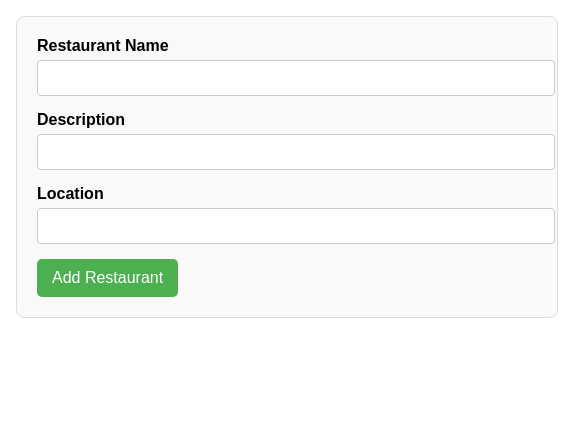
it: shows validation errors when inputs are empty
The width and height of the screenshot is (575, 444).
Click the button "Add Restaurant" at [108, 278], box [37, 259, 178, 297]
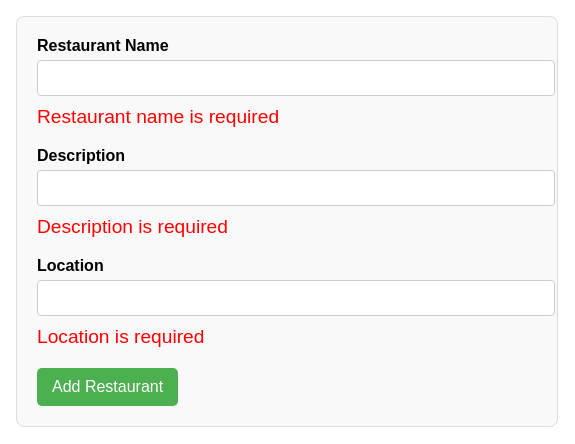
Now the text "Restaurant name is required" is shown, box [37, 106, 279, 127]
Now the text "Description is required" is shown, box [37, 216, 228, 237]
Now the text "Location is required" is shown, box [37, 326, 204, 347]
